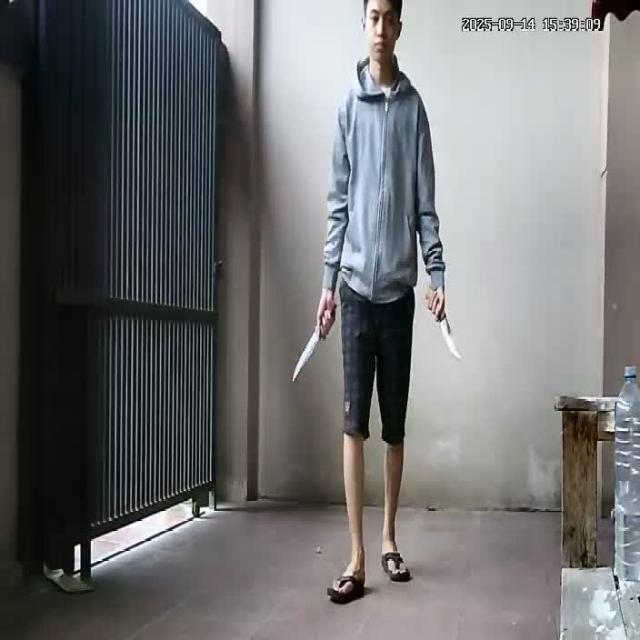senjata_tajam: (292, 326, 321, 384), (438, 311, 466, 362)
